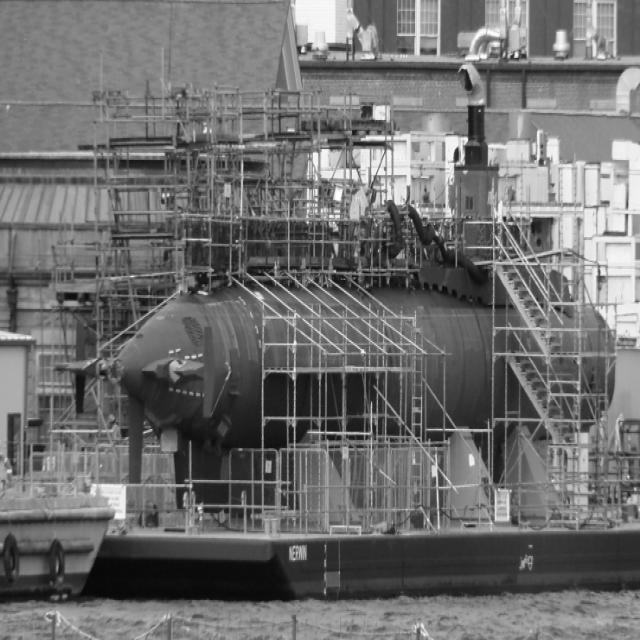submarine: (100, 258, 618, 461)
